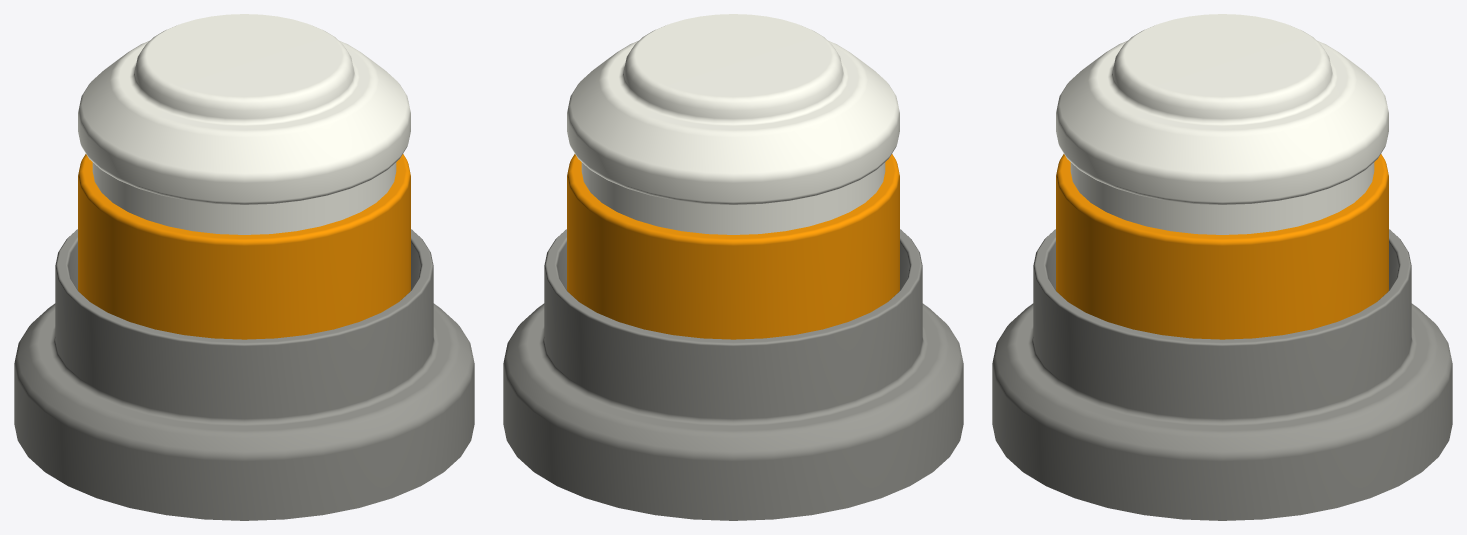
The model's file is Knob or Button #2.fbx.
3 renders of one model, left to right at view 1: azimuth 30°, elevation 25°; view 2: azimuth 150°, elevation 25°; view 3: azimuth 270°, elevation 25°, orthographic.
Parts seen in each view (by area): view 1: kitbash_55; view 2: kitbash_55; view 3: kitbash_55.
Part boxes in pixels (x1,y1,x2,y2): kitbash_55: [14, 14, 474, 520]; kitbash_55: [503, 14, 963, 520]; kitbash_55: [992, 14, 1452, 520].
Bounding box in the file's own units: 4.37 × 3.86 × 4.37.
